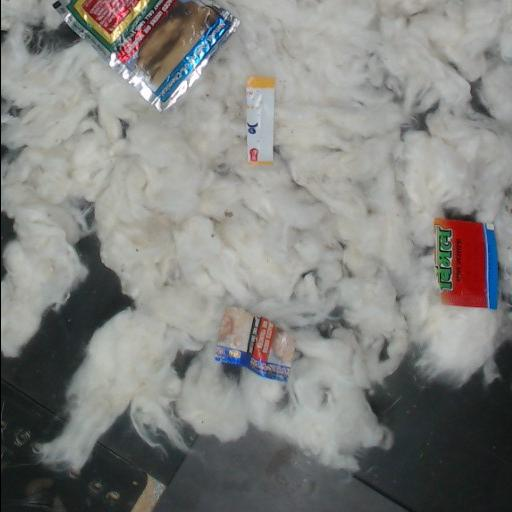cotton: (1, 0, 512, 472)
packet: (53, 0, 237, 110), (215, 309, 294, 382), (435, 219, 497, 309), (245, 77, 272, 164)
